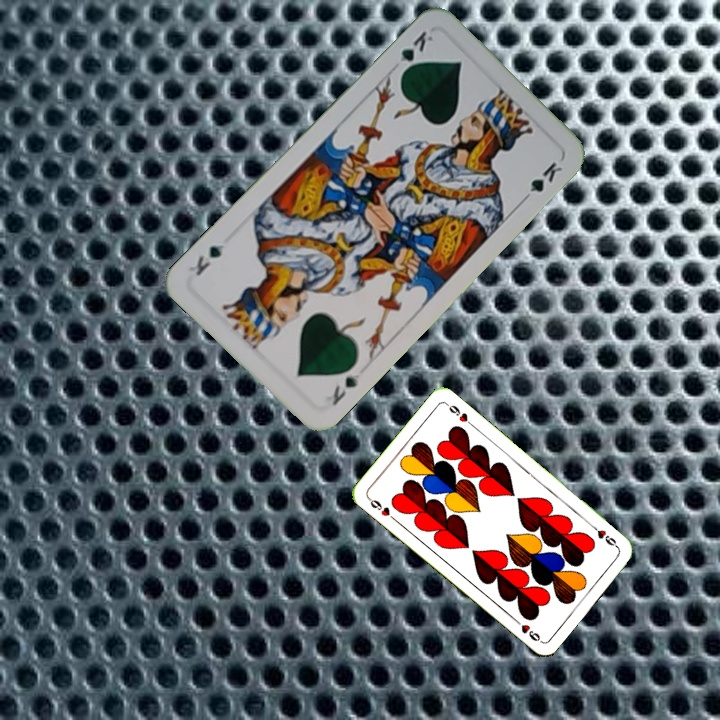GK: (388, 26, 436, 79), (328, 367, 364, 408)
H9: (586, 520, 621, 550), (364, 494, 398, 523)
